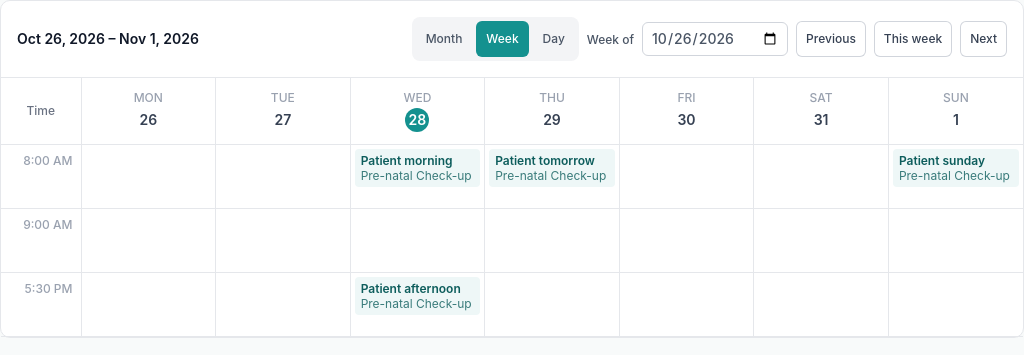
Test: appointment calendar views › switches to the actual selected day and only shows its appointments and slot times
Click the button "Day".
click(554, 39)  # box [533,21,575,57]
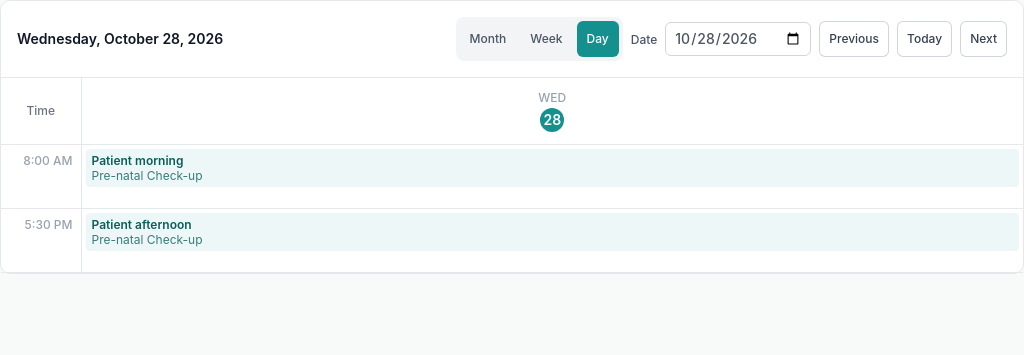
Now the date field labelled "Date" holds "2026-10-28", box [665,22,811,56]
Now the button "Patient tomorrow" no longer shows "Patient tomorrow"
Now the column heading no longer shows "9:00 AM"
Click the button "Next".
click(984, 39)  # box [960,21,1007,57]
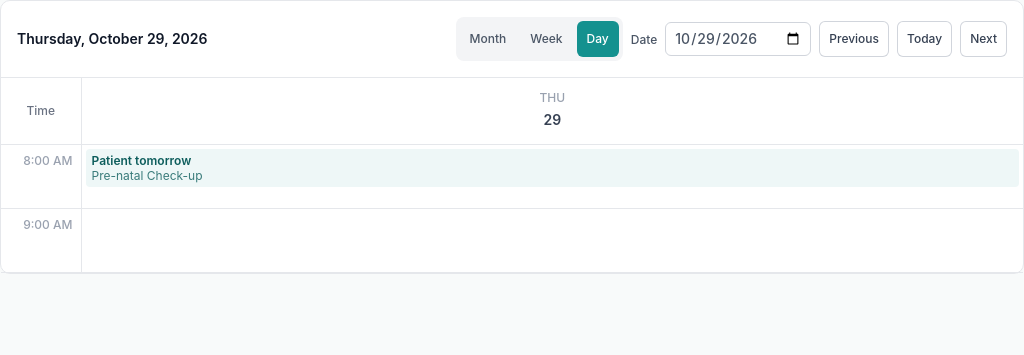
Now the date field labelled "Date" holds "2026-10-29", box [665,22,811,56]
Now the element named "Daily appointment calendar" shows "Patient tomorrow", box [86,149,1019,187]
Click the button "Today".
click(925, 39)  # box [897,21,952,57]
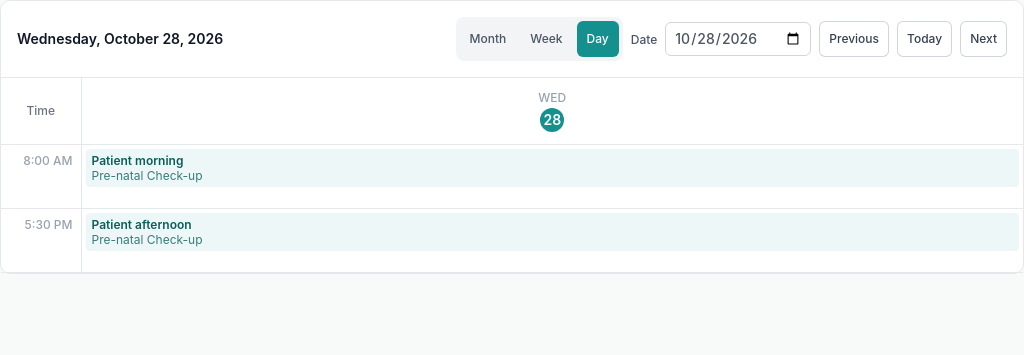
Now the date field labelled "Date" holds "2026-10-28", box [665,22,811,56]
